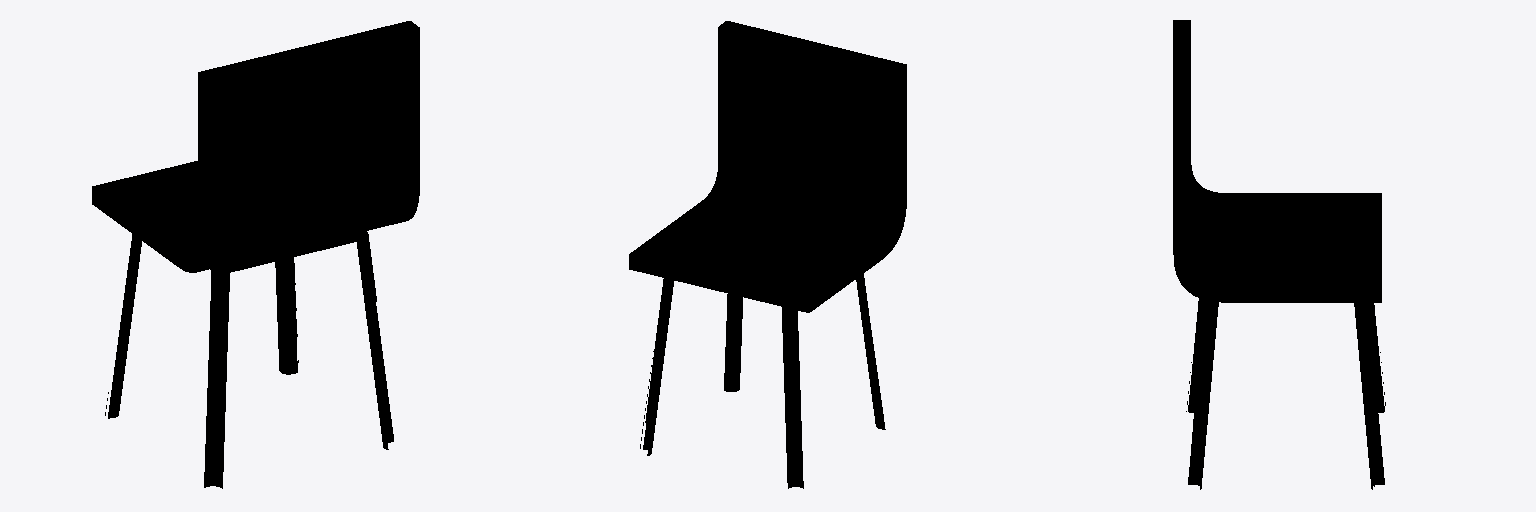
URDF robot description (chair):
<?xml version="1.0" ?>
<robot name="chair">
  <link name="baseLink">
    <contact>
      <lateral_friction value="1.0"/>
      <rolling_friction value="0.0"/>
      <contact_cfm value="0.0"/>
      <contact_erp value="1.0"/>
    </contact>
    <inertial>
      <origin rpy="0 0 0" xyz="0.0989 -0.4075 0.6236"/>
       <mass value="6.0"/>
       <inertia ixx="0.25329985" ixy="-0.00000017" ixz="-0.00000096" iyy="0.25469998" iyz="0.08153485" izz="0.24913930"/>
    </inertial>
    <visual>
      <origin rpy="0 0 0" xyz="0.0989 -0.4075 0.6236"/>
      <geometry>
        <mesh filename="../obj/chair.obj" scale="0.02 0.02 0.02"/>
      </geometry>
       <material name="black">
        <color rgba="0 0 0 1"/>
      </material>
    </visual>
    <collision concave="yes">
      <origin rpy="0 0 0" xyz="0.0989 -0.4075 0.6236"/>
      <geometry>
	 	<mesh filename="../obj/chair.obj" scale="0.02 0.02 0.02"/>
      </geometry>
    </collision>
  </link>
</robot>

--- Facts derived from the render (not from the file) ---
Views: 3 orthographic renders of the robot side by side, from view 1: azimuth 30°, elevation 25°; view 2: azimuth 150°, elevation 25°; view 3: azimuth 270°, elevation 25°.
Robot: chair — 1 links, 0 joints (none); root link baseLink; default pose: every joint at zero.
Links seen in each view (by area): view 1: baseLink; view 2: baseLink; view 3: baseLink.
Link boxes in pixels (left/top/right/bottom): baseLink: left=92, top=21, right=419, bottom=488; baseLink: left=629, top=21, right=906, bottom=488; baseLink: left=1173, top=20, right=1385, bottom=489.
Size in the robot's own frame: 0.5 by 0.4808 by 0.9499 metres.
Meshes: 1 distinct files referenced, 1 mesh visuals loaded (1 OBJ).
